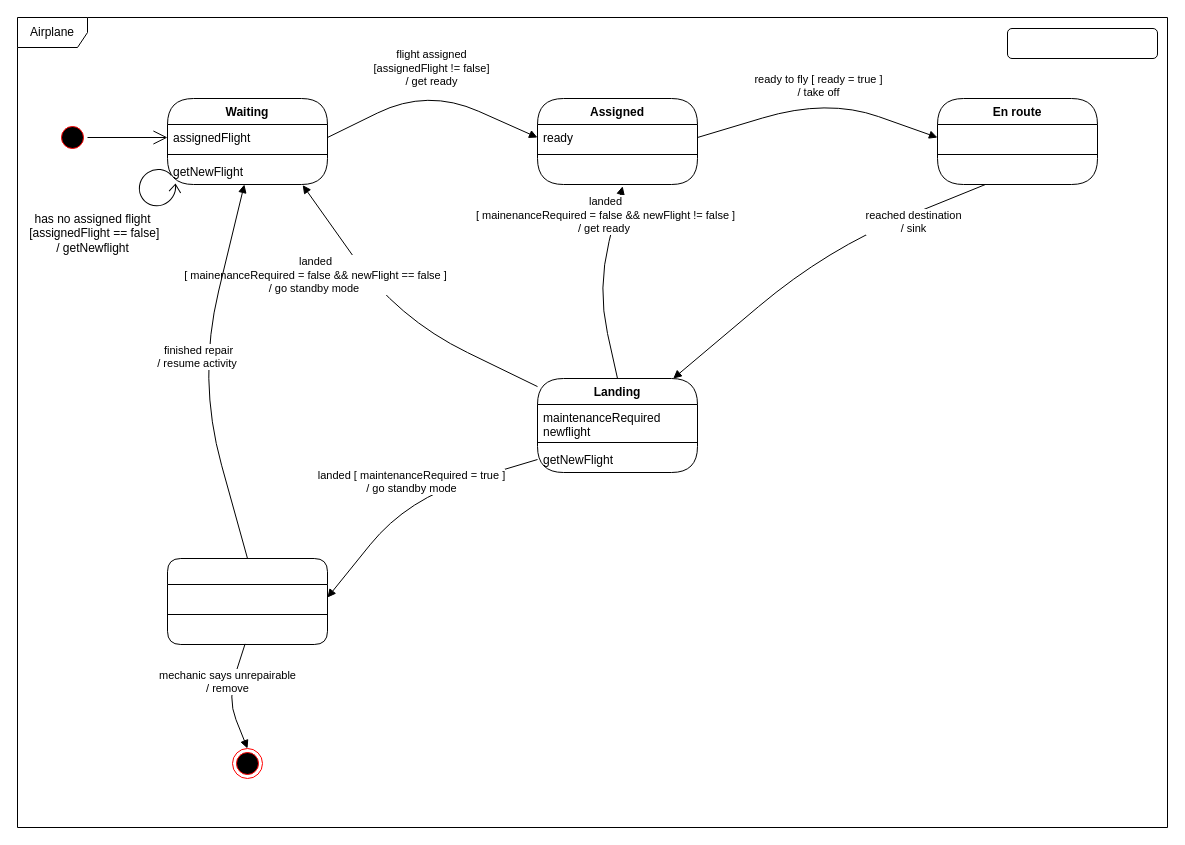
Some shapes in this 1185 by 845 pixel diagram are drawn without their labels. The shapes that lost their labels are listed below. From the top down, each one's centre as x and y in pixels, then its label:
point 1082,43: Sebastian Hattinger
point 247,601: In Maintenance
